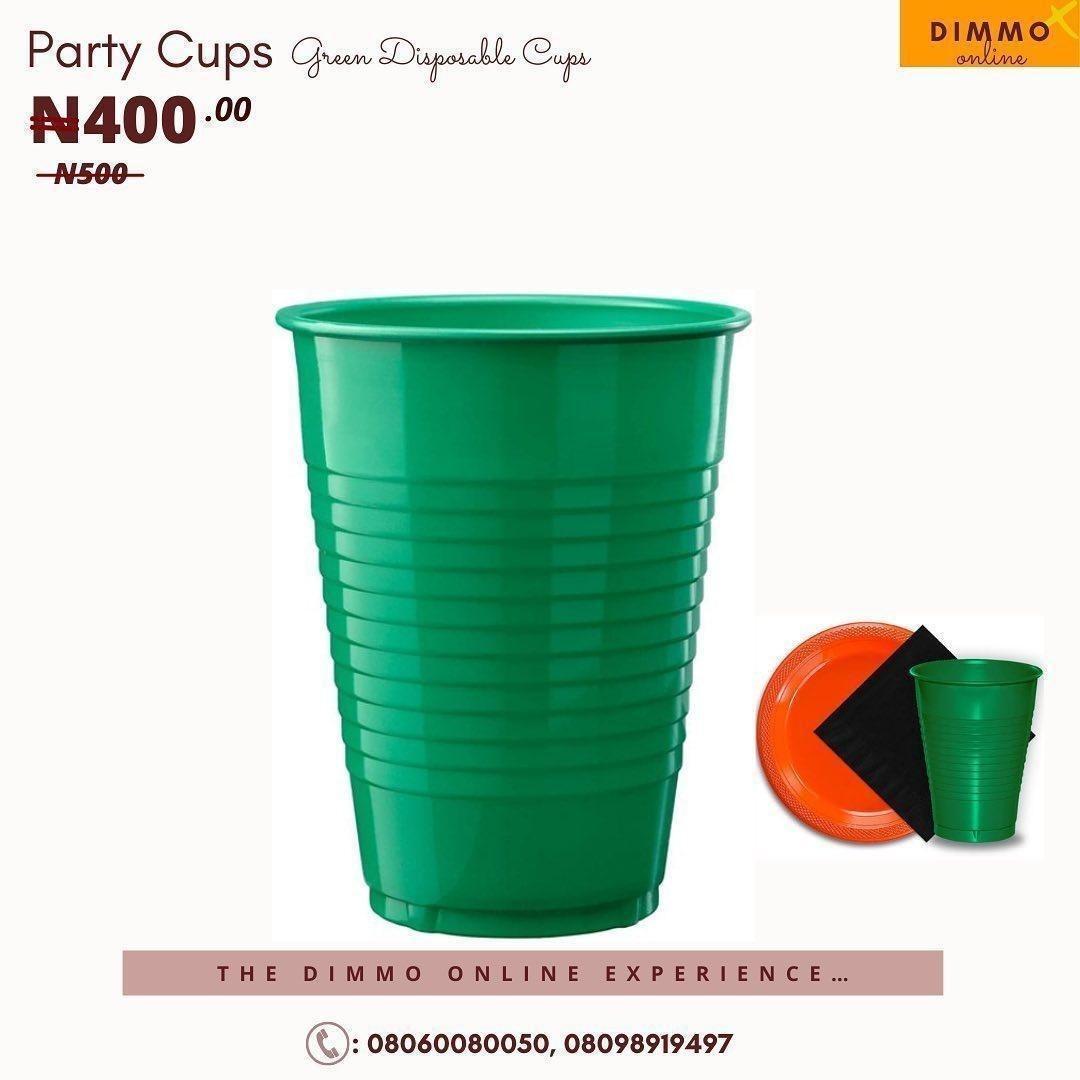cup-disposable: (269, 273, 769, 945), (909, 651, 1043, 854)
